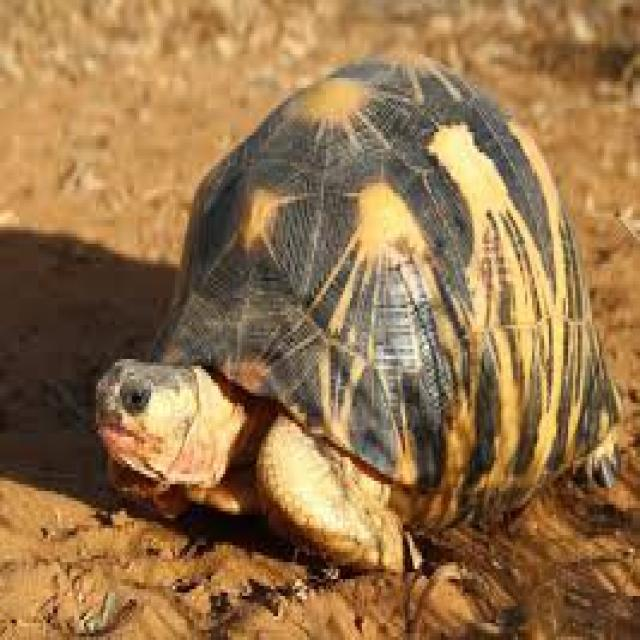turtle: (45, 197, 605, 573)
